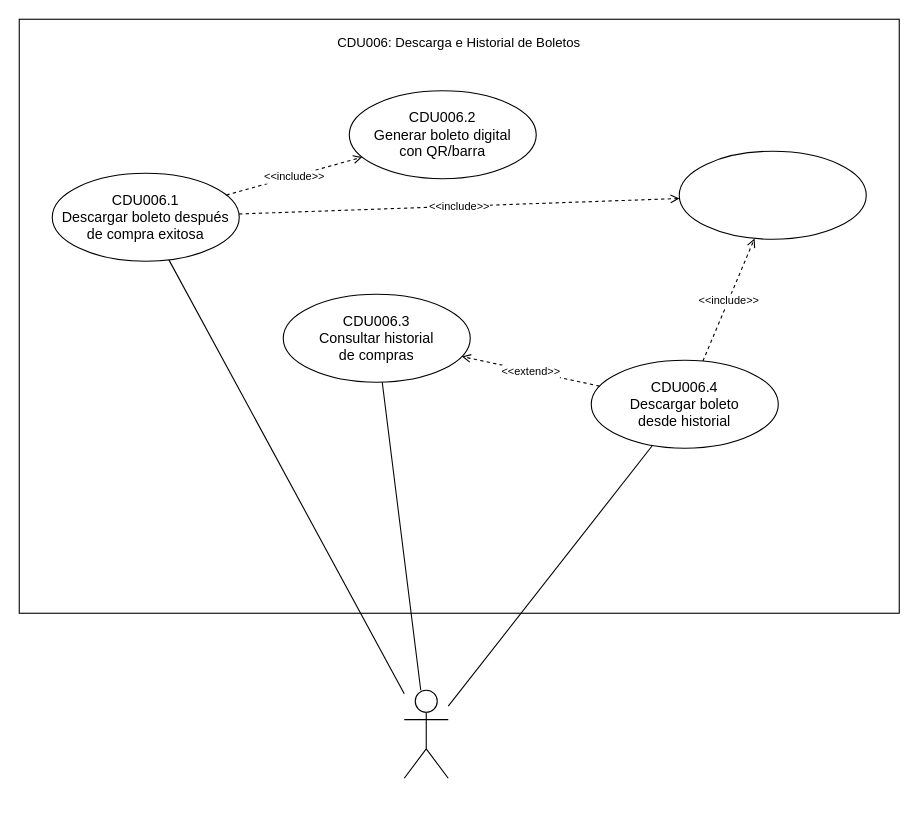
Image size: 919x823. Some labels were removed from this diagram. Each missing label, with the centre of its shape:
CDU006.5 Validar permiso de consulta o descarga: (x=772, y=194)
Usuario: (x=425, y=733)
